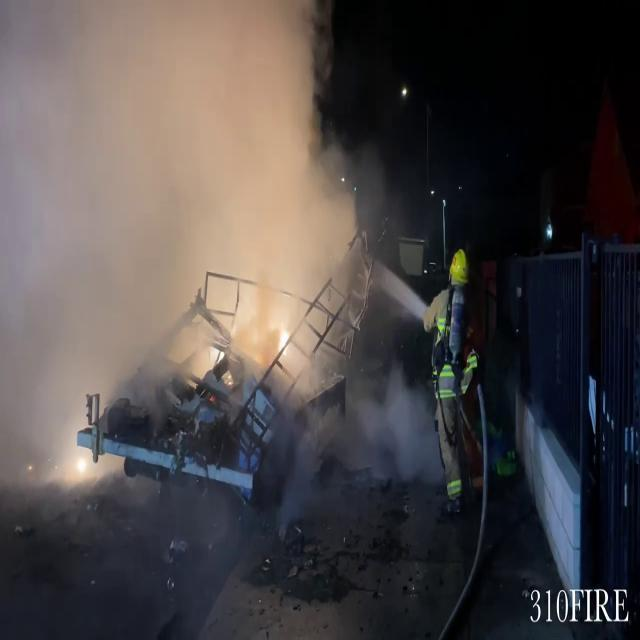Smoke: (0, 1, 383, 483)
